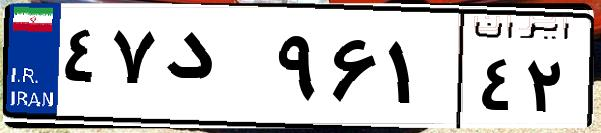1: (385, 28, 445, 110)
2: (525, 38, 570, 115)
4: (57, 26, 110, 100), (475, 38, 525, 113)
6: (330, 28, 385, 110)
7: (110, 28, 158, 98)
9: (270, 28, 330, 110)
د: (158, 20, 270, 120)
